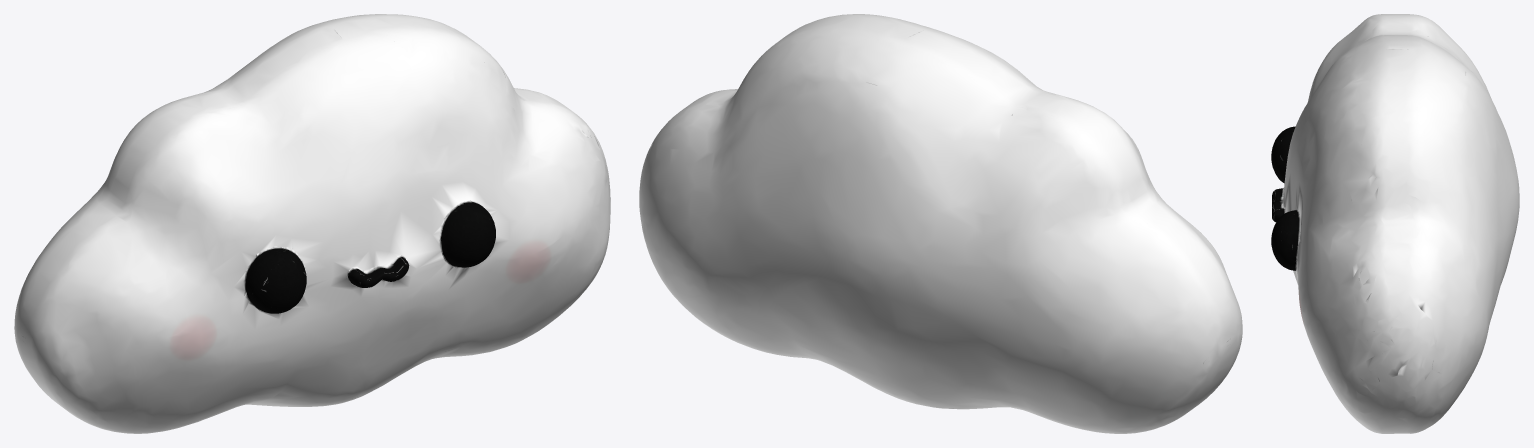
3 renders of one model, left to right at view 1: azimuth 30°, elevation 25°; view 2: azimuth 150°, elevation 25°; view 3: azimuth 270°, elevation 25°, orthographic. The views are drawn at different scales.
Parts seen in each view (by area): view 1: Meshy_AI_cloud_squishy_3d_0803093800_image-to-3d-texture; view 2: Meshy_AI_cloud_squishy_3d_0803093800_image-to-3d-texture; view 3: Meshy_AI_cloud_squishy_3d_0803093800_image-to-3d-texture.
Boxes of the visible parts, x1=… form: Meshy_AI_cloud_squishy_3d_0803093800_image-to-3d-texture: x1=14, y1=14, x2=610, y2=433; Meshy_AI_cloud_squishy_3d_0803093800_image-to-3d-texture: x1=639, y1=14, x2=1242, y2=433; Meshy_AI_cloud_squishy_3d_0803093800_image-to-3d-texture: x1=1271, y1=14, x2=1519, y2=433.
Bounding box in the file's own units: 1.9 × 1.12 × 0.7791.
1 material, 1 textured.
